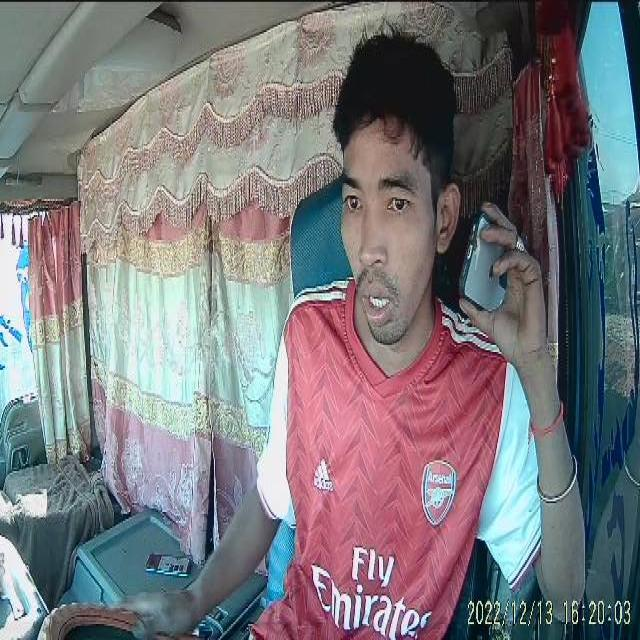phone: (454, 204, 543, 324)
